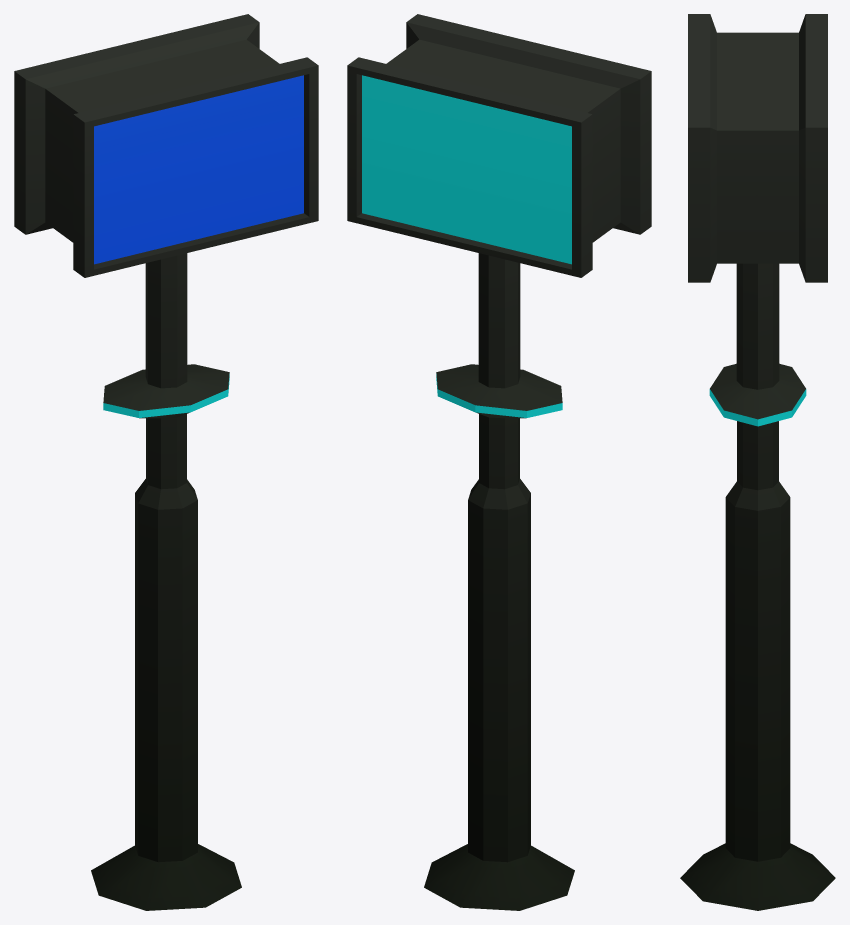
Rendered from Small_Billboard.glb.
3 renders of one model, left to right at view 1: azimuth 30°, elevation 25°; view 2: azimuth 150°, elevation 25°; view 3: azimuth 270°, elevation 25°, orthographic.
Visible parts, largest first — view 1: Small_Billboard; view 2: Small_Billboard; view 3: Small_Billboard.
Part boxes in pixels (<box>): Small_Billboard: <box>14,14,318,910</box>; Small_Billboard: <box>347,14,651,910</box>; Small_Billboard: <box>680,14,835,910</box>.
Size of what is drawn, in the model's own units: 1.12 by 3.72 by 0.6507.
1 material, 1 textured.
